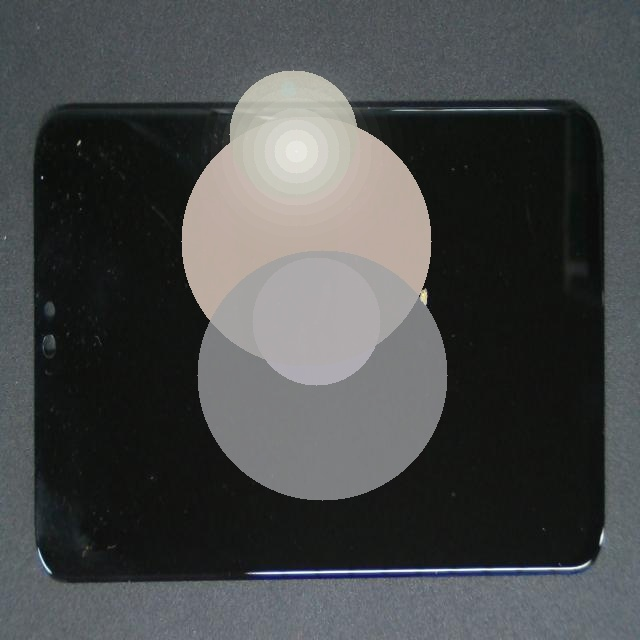stain: (212, 93, 619, 425)
